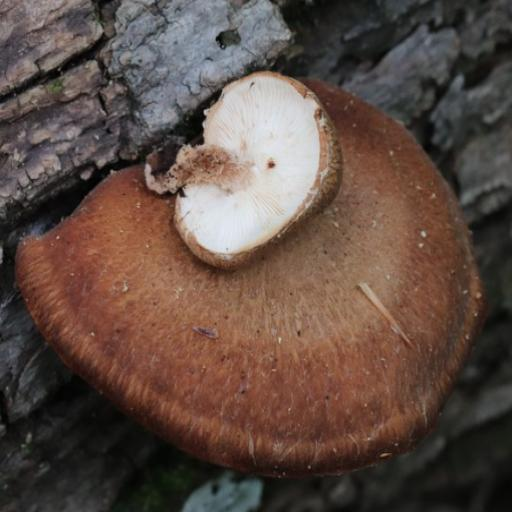Shiitake Mushroom: (12, 33, 512, 512)
